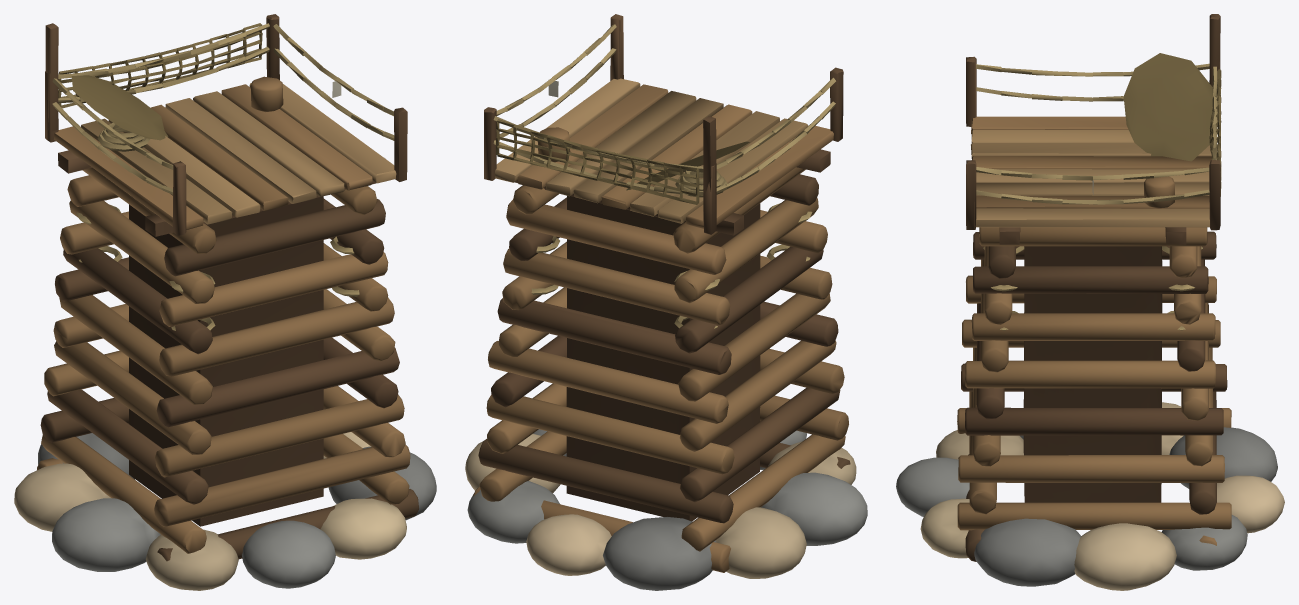
File: lookout_deck_b_lod1.glb
3 renders of one model, left to right at view 1: azimuth 30°, elevation 25°; view 2: azimuth 150°, elevation 25°; view 3: azimuth 270°, elevation 25°, orthographic. The views are drawn at different scales.
Parts seen in each view (by area): view 1: Surface.001; view 2: Surface.001; view 3: Surface.001.
Boxes of the visible parts, box(x1,y1,x2,y2) form: Surface.001: box(14, 14, 436, 590); Surface.001: box(465, 14, 867, 590); Surface.001: box(896, 14, 1284, 590).
Size of the model in its own units: 7.19 by 9.06 by 7.01.
